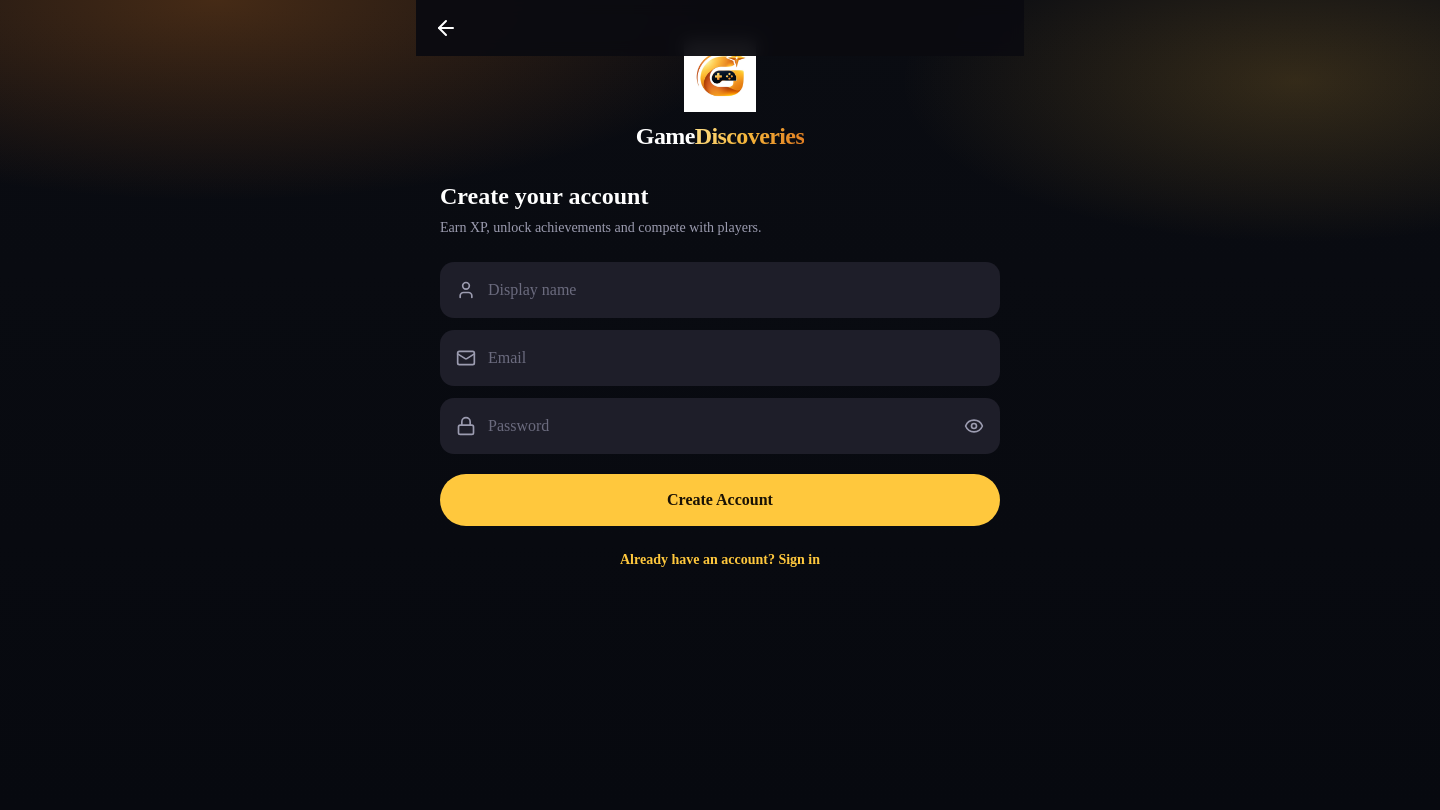
Test case: MobileSignup › maps duplicate email errors
The image size is (1440, 810).
Type "Player One" into the field labelled "Display name" at (720, 290), box [440,262,1000,318]
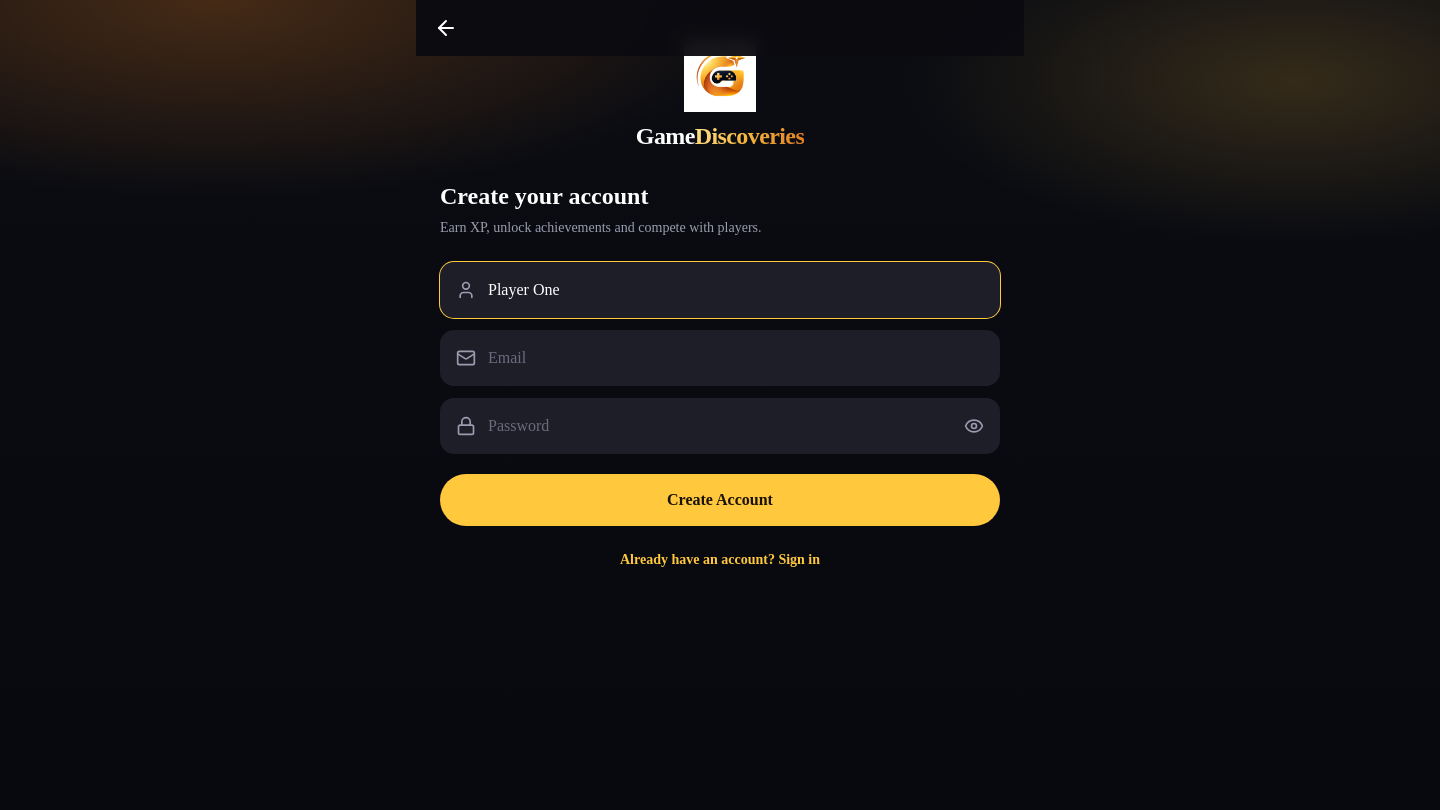
Type "player@example.com" into the field labelled "Email" at (720, 358), box [440,330,1000,386]
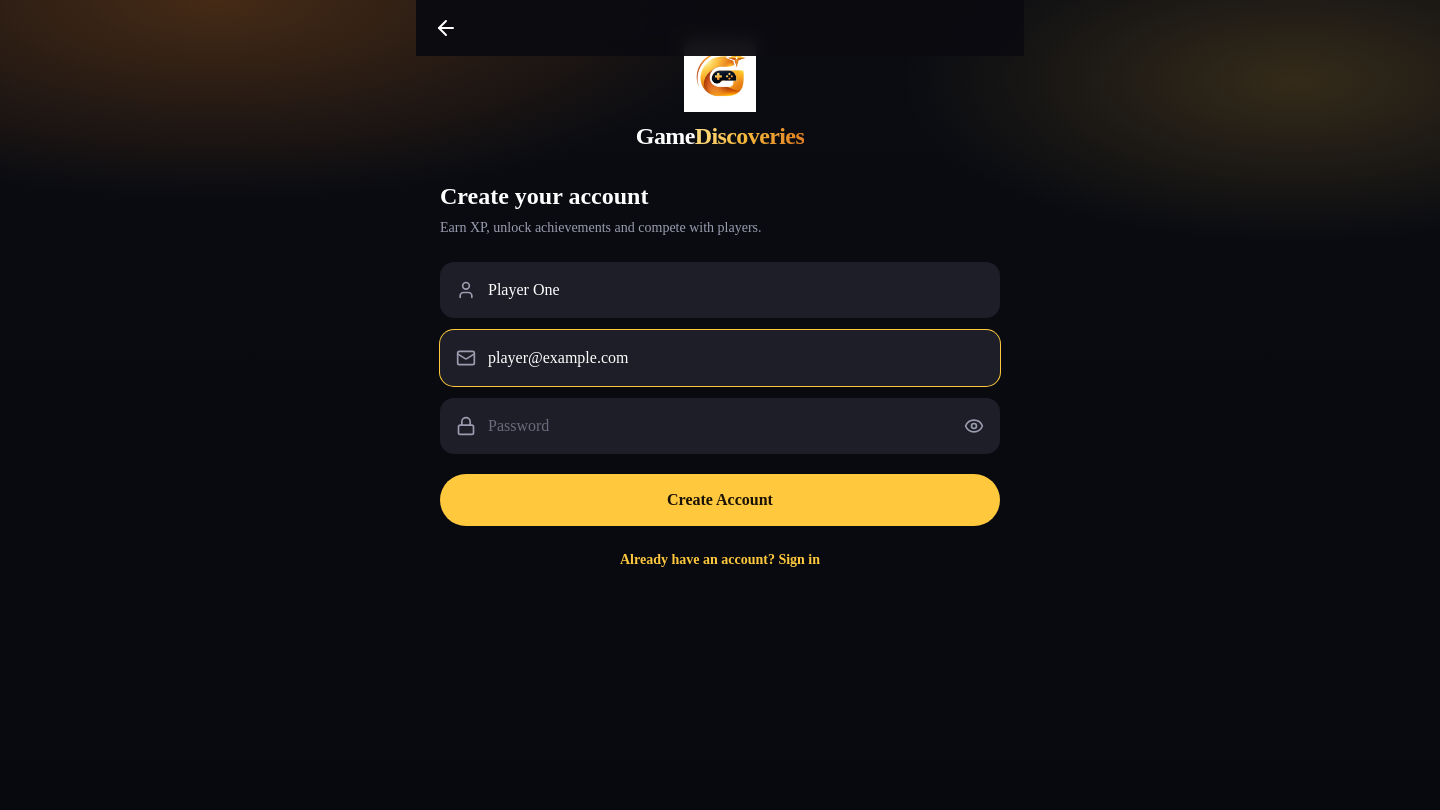
Type "password123" into the password field labelled "Password" at (720, 426), box [440,398,1000,454]
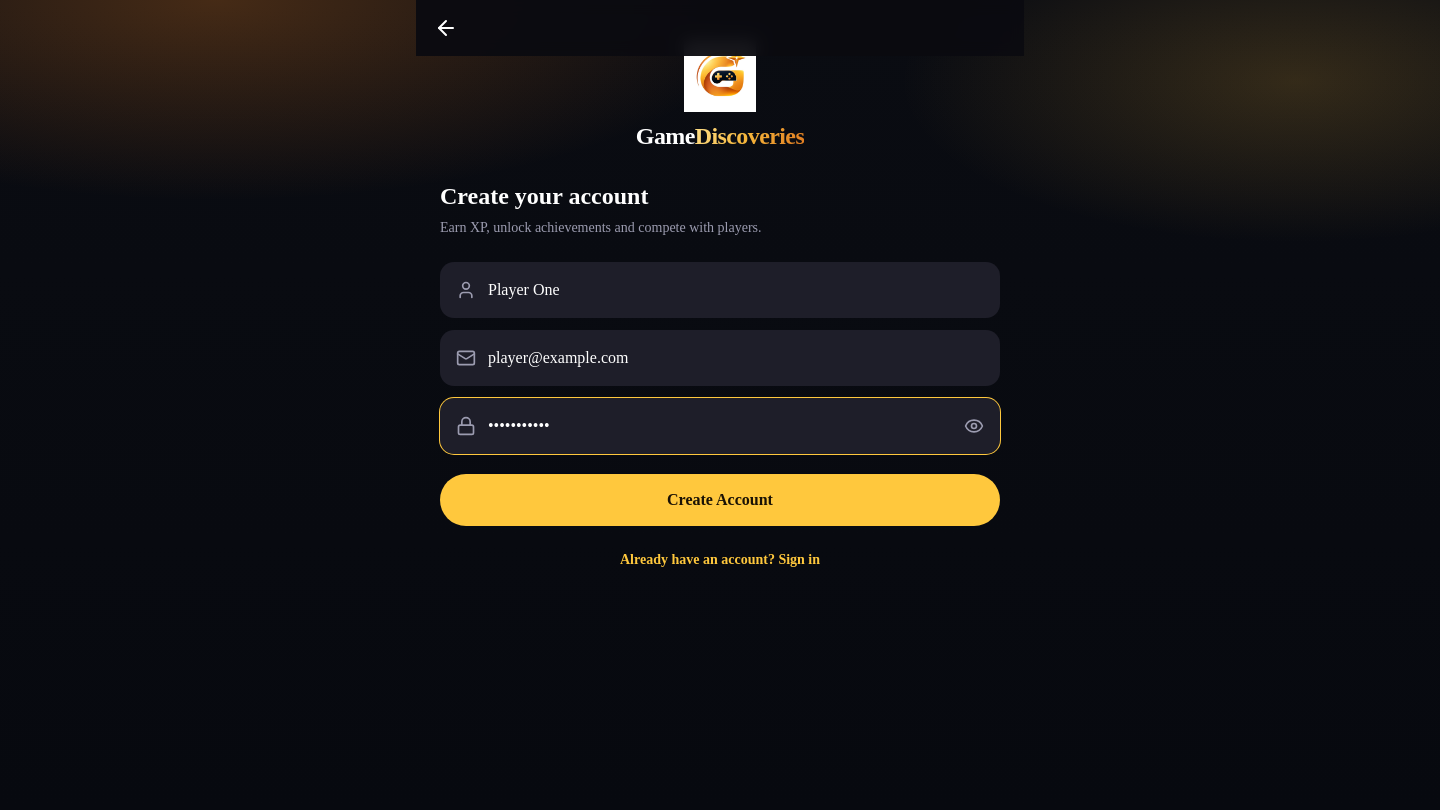
Click the button "Create Account" at (720, 500), box [440,474,1000,526]
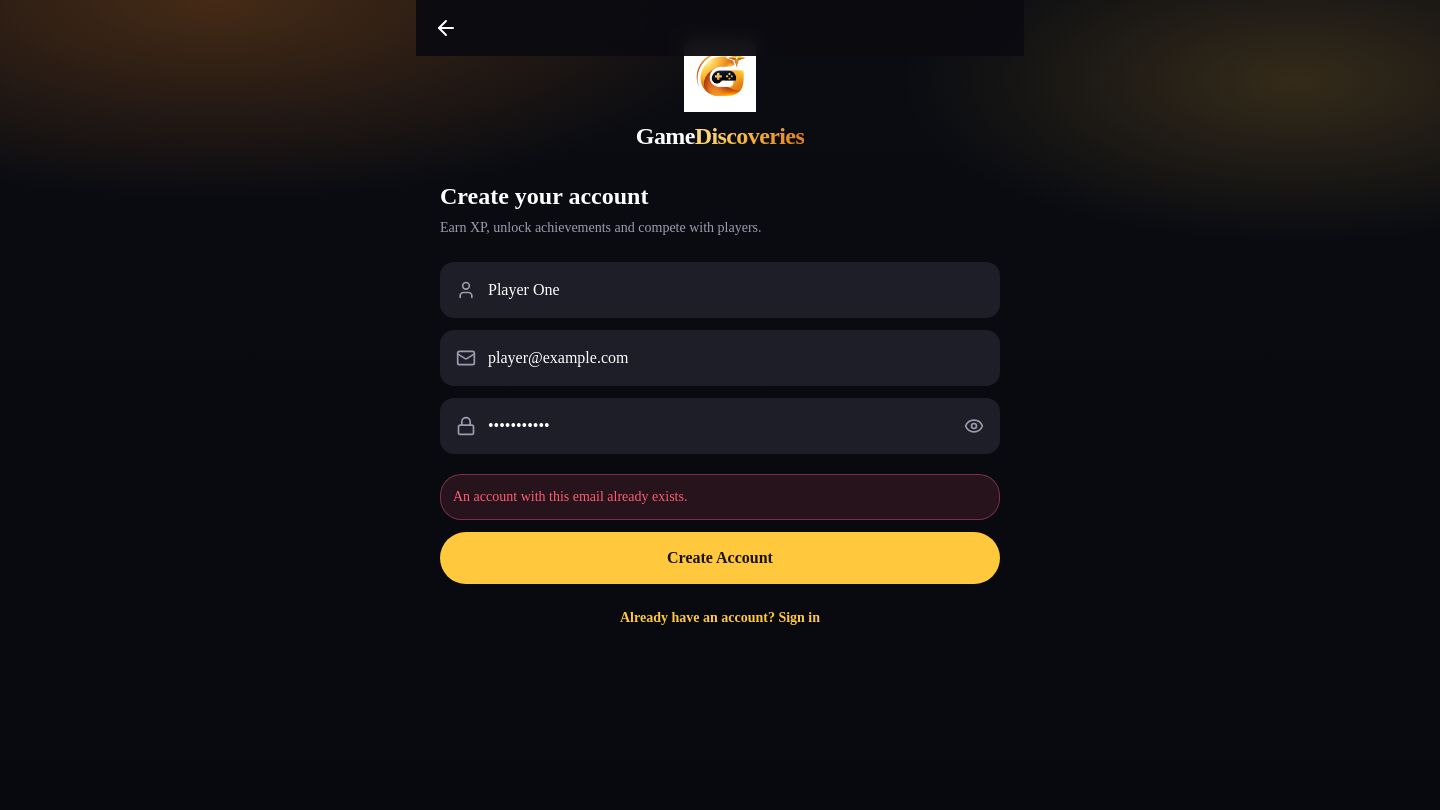
Expected: the text "An account with this email already exists." is shown, [440,474,1000,520]
